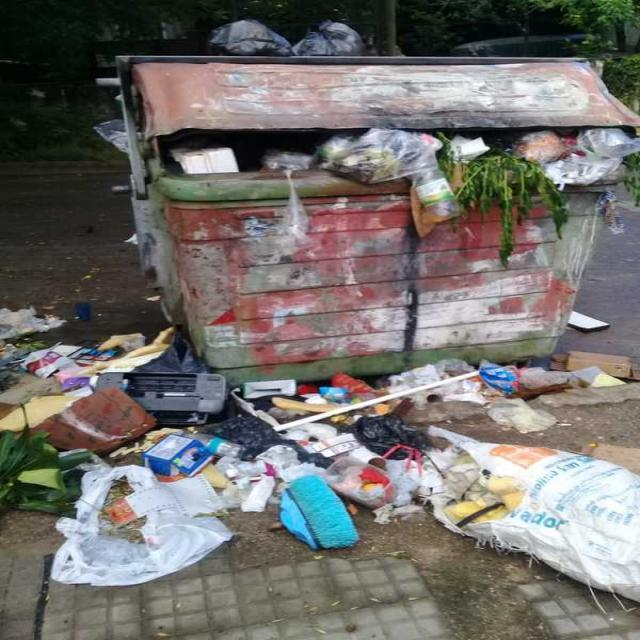garbage: (246, 378, 639, 590), (1, 306, 246, 584), (155, 135, 640, 216), (211, 12, 383, 72), (499, 354, 639, 382), (565, 300, 621, 338)
